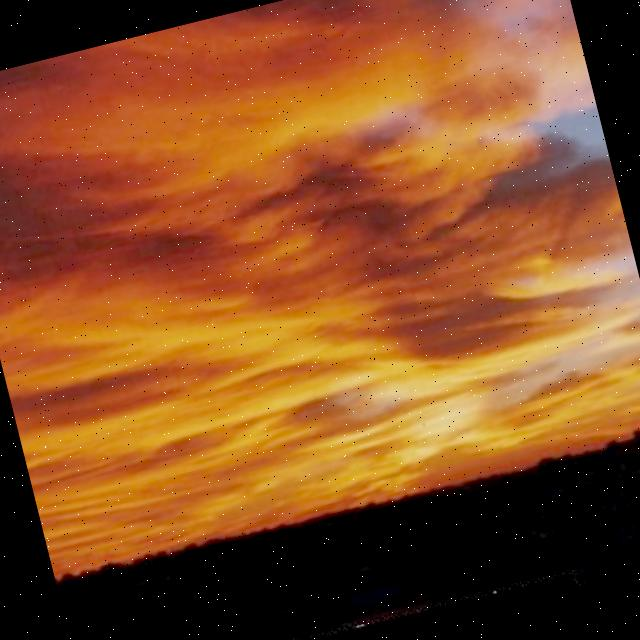As: (1, 1, 640, 552)
